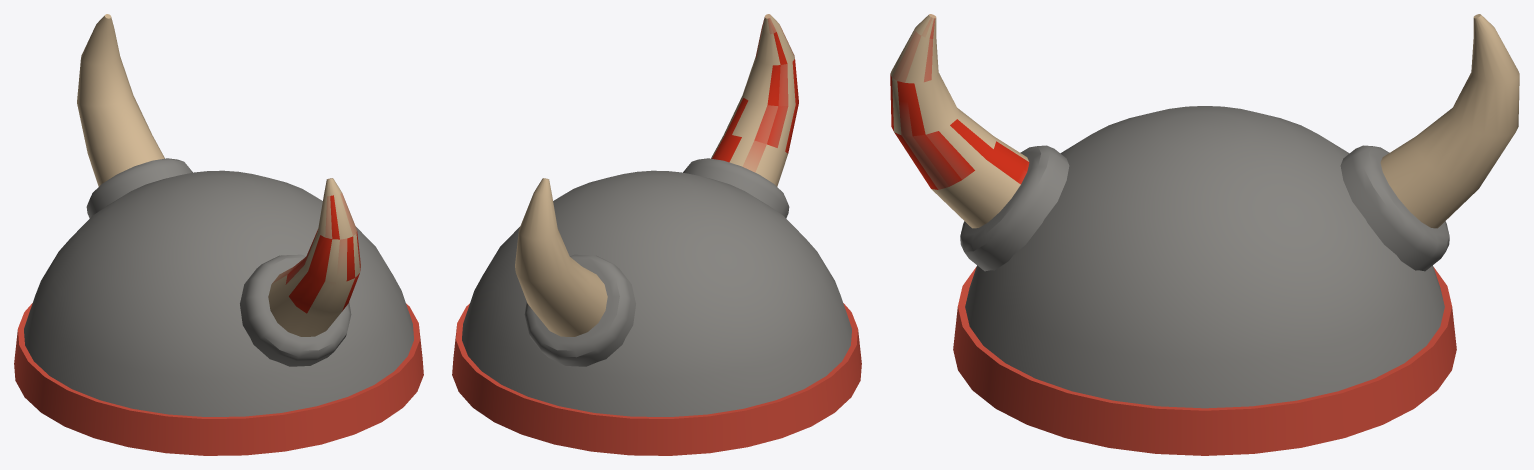
Rendered from Helmet.fbx.
3 views of the same model, side by side, from view 1: azimuth 30°, elevation 25°; view 2: azimuth 150°, elevation 25°; view 3: azimuth 270°, elevation 25° (orthographic). The views are drawn at different scales.
Visible parts, largest first — view 1: Helmet; view 2: Helmet; view 3: Helmet.
Part boxes in pixels (x1,y1,x2,y2): Helmet: (14, 14, 423, 455); Helmet: (452, 14, 861, 455); Helmet: (890, 14, 1519, 455).
Size of the model in its own units: 206 by 152 by 257.
